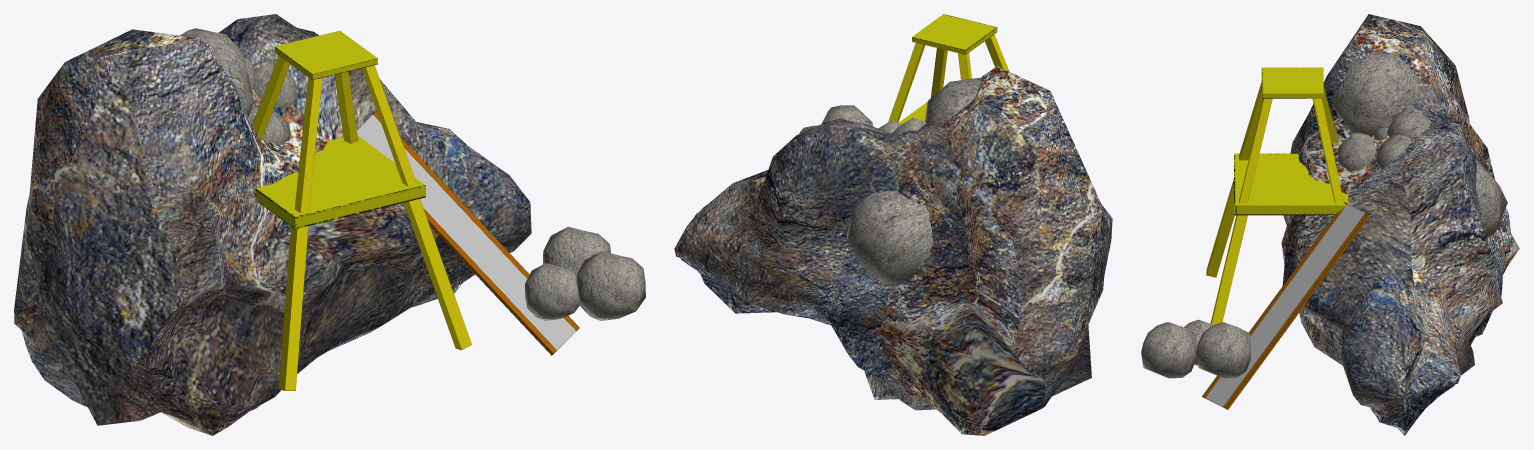
Rendered from stone_mine_lod2.fbx.
3 renders of one model, left to right at view 1: azimuth 30°, elevation 25°; view 2: azimuth 150°, elevation 25°; view 3: azimuth 270°, elevation 25°, orthographic. The views are drawn at different scales.
Visible parts, largest first — view 1: stone_mine_mesh; view 2: stone_mine_mesh; view 3: stone_mine_mesh.
Boxes of the visible parts, bbox=[...] form: stone_mine_mesh: bbox=[14, 14, 645, 435]; stone_mine_mesh: bbox=[674, 14, 1112, 435]; stone_mine_mesh: bbox=[1141, 14, 1519, 435].
Size of the model in its own units: 22.3 by 17.45 by 18.26.
